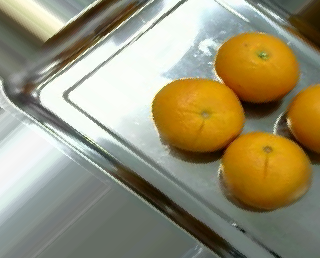Orange: (220, 132, 311, 210), (152, 77, 245, 151), (213, 31, 298, 103)
